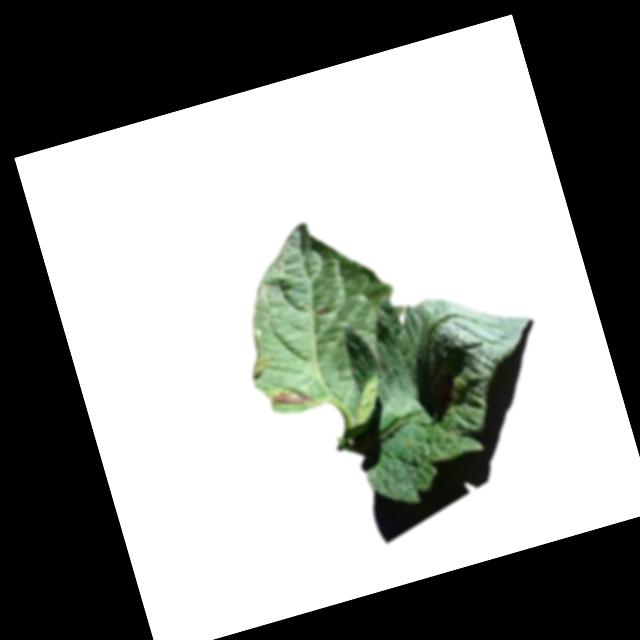Early_blight: (266, 377, 315, 411), (314, 304, 332, 318)
